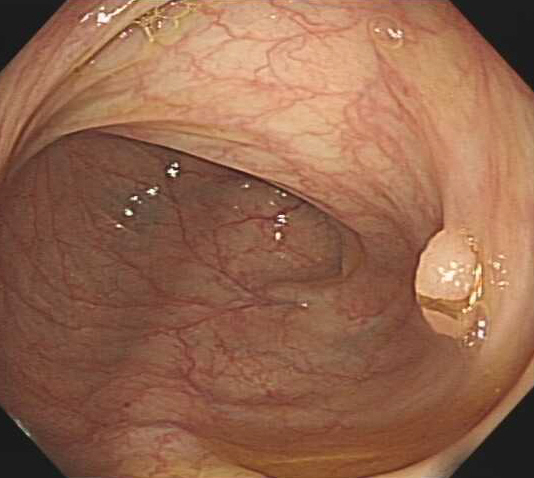adenoma: (412, 226, 483, 343)
